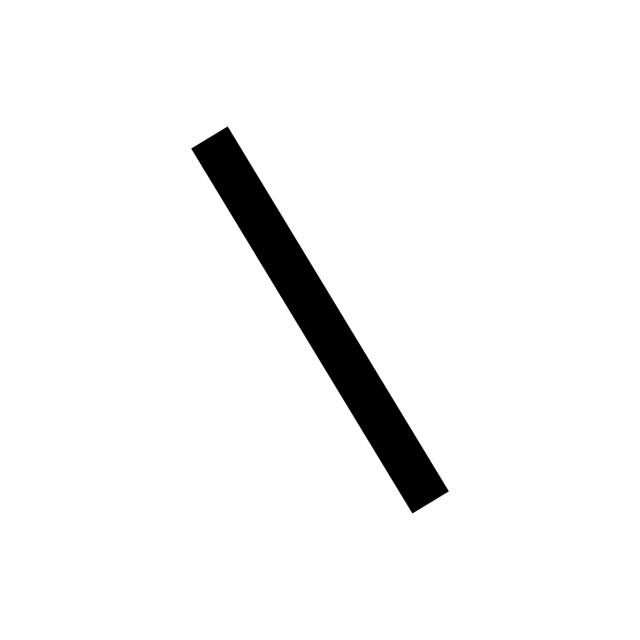line: (191, 126, 449, 513)
